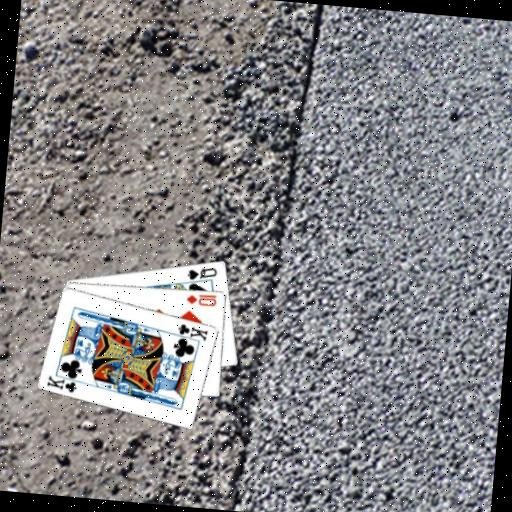10D: (184, 290, 219, 308)
KC: (44, 370, 85, 395), (170, 320, 210, 345)
QS: (184, 263, 219, 284)
